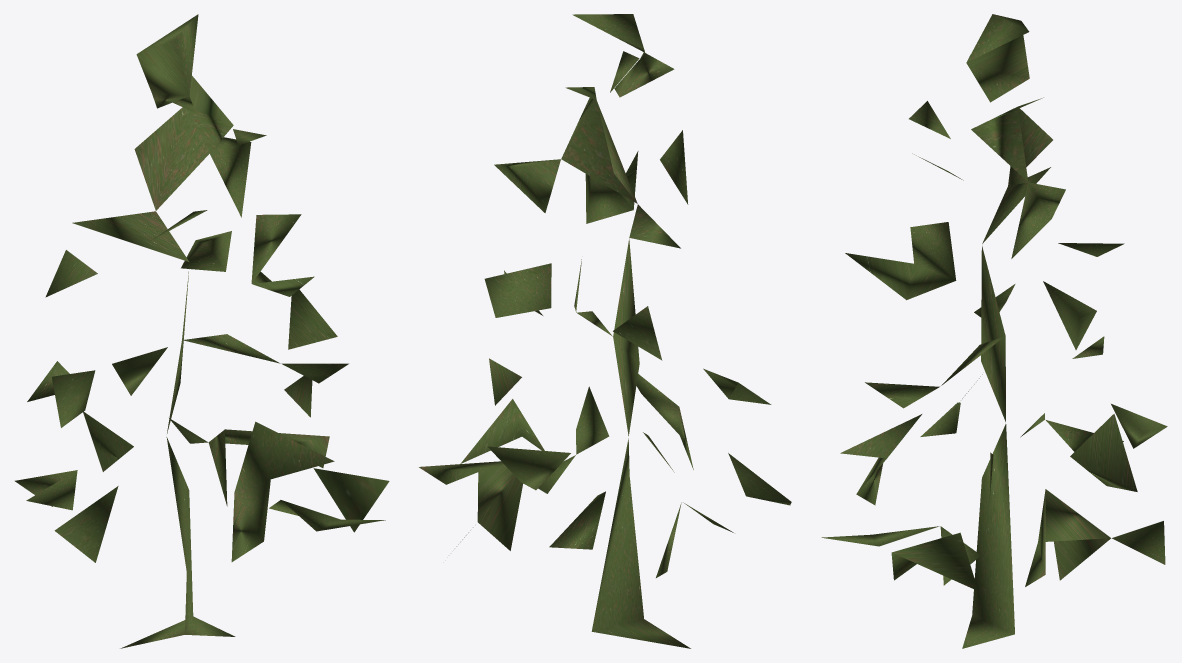
The model's file is abies-sapling-l4.glb.
The picture shows the model from 3 angles, left to right: view 1: azimuth 30°, elevation 25°; view 2: azimuth 150°, elevation 25°; view 3: azimuth 270°, elevation 25°; orthographic projection. The views are drawn at different scales.
Parts seen in each view (by area): view 1: world; view 2: world; view 3: world.
Boxes of the visible parts, x1=… form: world: x1=15, y1=14, x2=389, y2=648; world: x1=419, y1=14, x2=791, y2=648; world: x1=821, y1=14, x2=1167, y2=648.
Size of the model in its own units: 1.66 by 3 by 1.54.
1 material, 1 textured.
